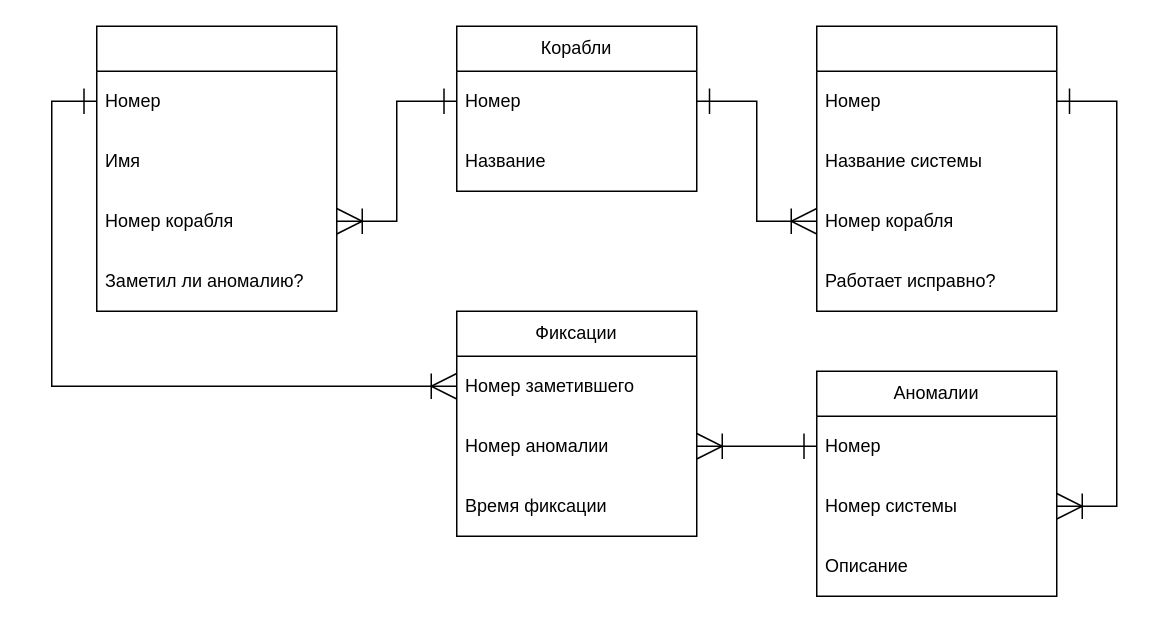
This 1170x623 diagram has some shape labels left out. Each missing label, with the box of its shape:
Системы корабля: (815, 25, 1057, 311)
Члены экипажа: (95, 25, 337, 311)
